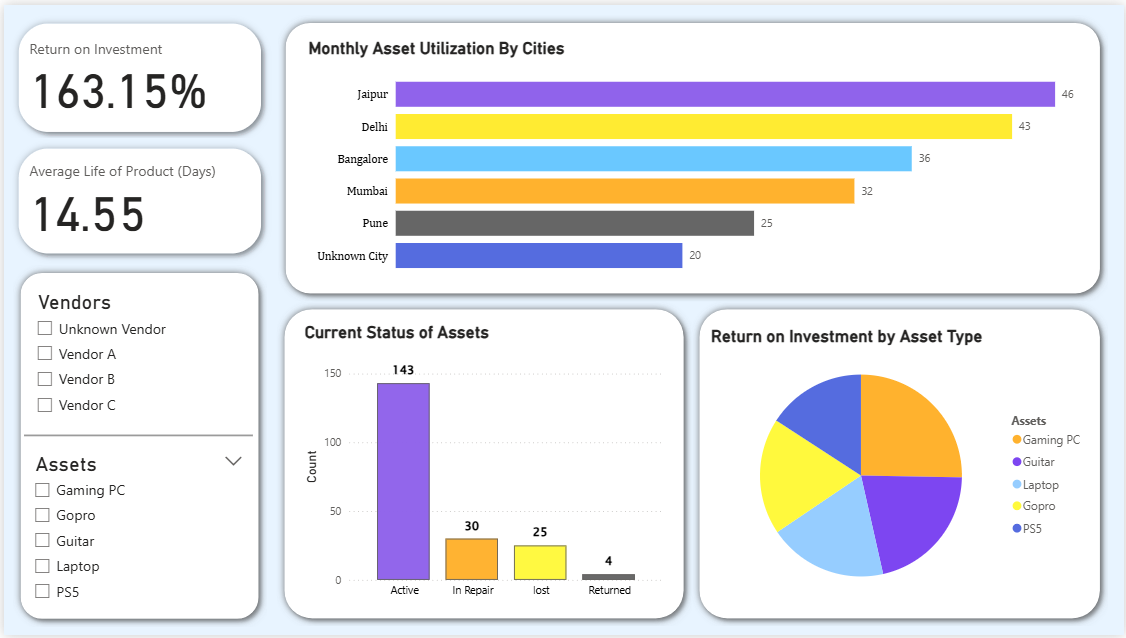

What the dashboard file says about the page in this screenshot:
{"tool":"powerbi","page":{"name":"Page 1","canvas":[1280,720],"ordinal":0},"visuals":[{"type":"shape","box":[785.7,338.6,475.7,371.4],"z":0},{"type":"shape","box":[311.4,338.6,474.3,371.4],"z":1000},{"type":"shape","box":[311.7,11.7,948.3,326.7],"z":2000},{"type":"shape","box":[10,296.7,290,413.3],"z":3000},{"type":"clusteredBarChart","title":"Monthly Asset Utilization By  Cities","fields":{"Category":["Cleaned_Rental_Asset_Dataset.city"],"Y":["CountNonNull(Cleaned_Rental_Asset_Dataset.asset_utilization)"]},"box":[343.3,38.3,885,283.3],"z":4000},{"type":"pieChart","title":"Return on Investment by Asset Type","fields":{"Category":["Cleaned_Rental_Asset_Dataset.asset_type"],"Y":["Avg(Cleaned_Rental_Asset_Dataset.roi)"]},"box":[802.9,367.1,441.4,320],"z":5000},{"type":"clusteredColumnChart","title":"Current Status of Assets","fields":{"Category":["Cleaned_Rental_Asset_Dataset.current_status"],"Y":["CountNonNull(Cleaned_Rental_Asset_Dataset.asset_type)"]},"box":[338.6,362.9,421.4,324.3],"z":6000},{"type":"slicer","fields":{"Values":["Cleaned_Rental_Asset_Dataset.vendor_name"]},"box":[25,321.7,261.7,156.7],"z":7000},{"type":"cardVisual","fields":{"Data":["Avg(Cleaned_Rental_Asset_Dataset.roi)"]},"box":[0,11.7,311.7,158.3],"z":8000},{"type":"slicer","fields":{"Values":["Cleaned_Rental_Asset_Dataset.asset_type"]},"box":[23.3,505,261.7,183.3],"z":9000},{"type":"cardVisual","fields":{"Data":["Cleaned_Rental_Asset_Dataset.Average Life of Product"]},"box":[0,155,311.7,155],"z":10000},{"type":"shape","box":[23.3,478.3,261.7,26.7],"z":11000}]}

Visuals, with their boxes in screenshot pixels (x1, y1, x2, y2), scaled from the page's 1280x720 canvas onto the 1126x638 screenshot:
shape: pyautogui.locateOnScreen(691, 300, 1110, 629)
shape: pyautogui.locateOnScreen(274, 300, 691, 629)
shape: pyautogui.locateOnScreen(274, 10, 1108, 300)
shape: pyautogui.locateOnScreen(9, 263, 264, 629)
"Monthly Asset Utilization By  Cities" clusteredBarChart: pyautogui.locateOnScreen(302, 34, 1081, 285)
"Return on Investment by Asset Type" pieChart: pyautogui.locateOnScreen(706, 325, 1095, 609)
"Current Status of Assets" clusteredColumnChart: pyautogui.locateOnScreen(298, 322, 669, 609)
slicer - Cleaned_Rental_Asset_Dataset.vendor_name: pyautogui.locateOnScreen(22, 285, 252, 424)
cardVisual - Avg(Cleaned_Rental_Asset_Dataset.roi): pyautogui.locateOnScreen(0, 10, 274, 151)
slicer - Cleaned_Rental_Asset_Dataset.asset_type: pyautogui.locateOnScreen(20, 447, 251, 610)
cardVisual - Cleaned_Rental_Asset_Dataset.Average Life of Product: pyautogui.locateOnScreen(0, 137, 274, 275)
shape: pyautogui.locateOnScreen(20, 424, 251, 447)
